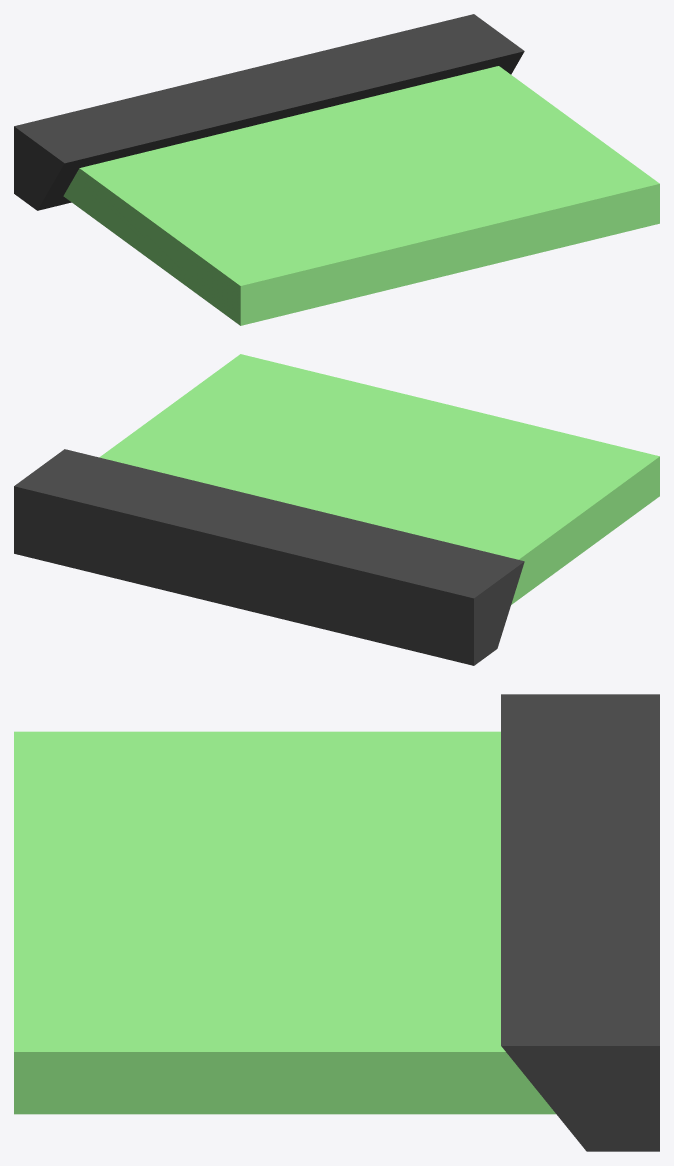
File: demo_keycard.fbx
The picture shows the model from 3 angles, top to bottom: view 1: azimuth 30°, elevation 25°; view 2: azimuth 150°, elevation 25°; view 3: azimuth 270°, elevation 25°; orthographic projection. The views are drawn at different scales.
Visible parts, largest first — view 1: Demo_Keycard; view 2: Demo_Keycard; view 3: Demo_Keycard.
Boxes of the visible parts, x1=… form: Demo_Keycard: x1=14, y1=14, x2=659, y2=325; Demo_Keycard: x1=14, y1=354, x2=659, y2=665; Demo_Keycard: x1=14, y1=694, x2=659, y2=1151.
Bounding box in the file's own units: 44.01 × 6.17 × 34.18.
